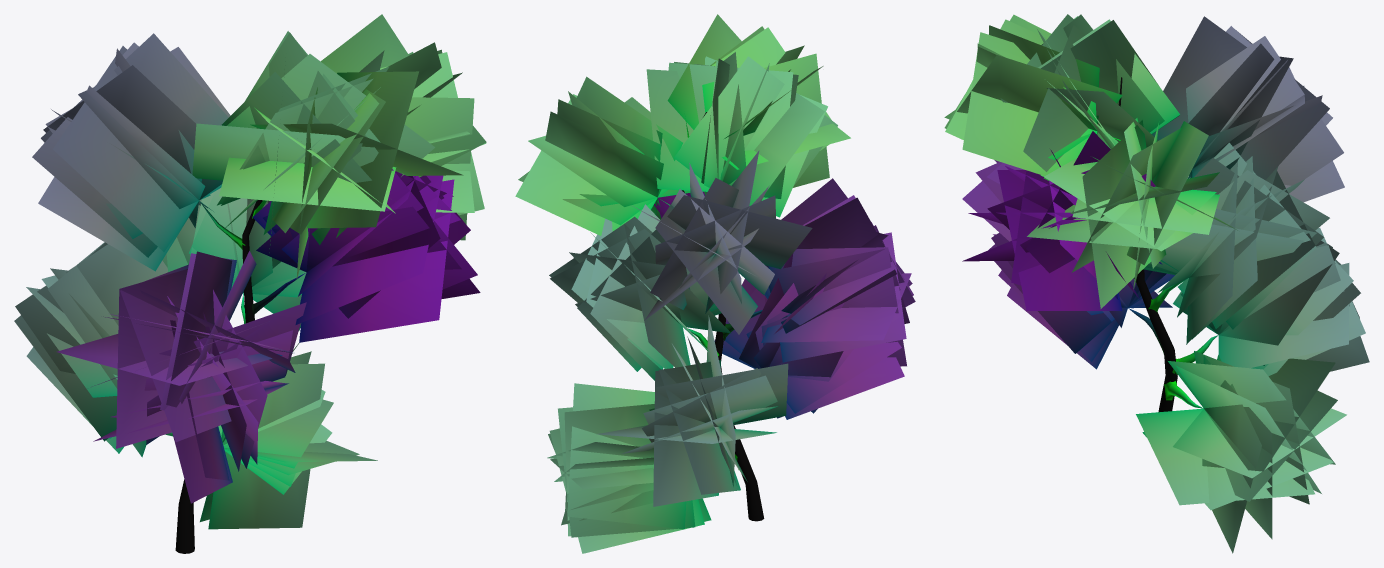
File: URP_P6_Tree_4_LOD_2.fbx
3 renders of one model, left to right at view 1: azimuth 30°, elevation 25°; view 2: azimuth 150°, elevation 25°; view 3: azimuth 270°, elevation 25°, orthographic. The views are drawn at different scales.
Parts seen in each view (by area): view 1: Tree_4_LOD_2; view 2: Tree_4_LOD_2; view 3: Tree_4_LOD_2.
Boxes of the visible parts, <box> form: Tree_4_LOD_2: <box>14,14,486,553</box>; Tree_4_LOD_2: <box>515,14,915,553</box>; Tree_4_LOD_2: <box>944,14,1369,553</box>.
Bounding box in the file's own units: 473 × 610 × 471.
